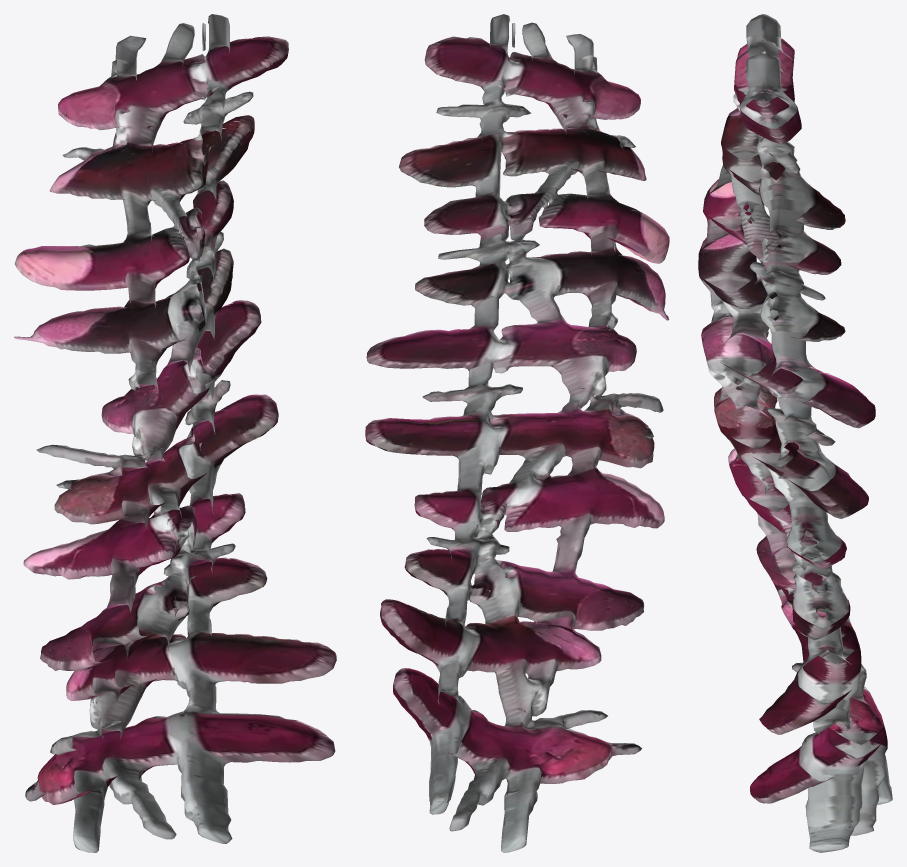
Rendered from hy3d-mov-009.glb.
3 views of the same model, side by side, from view 1: azimuth 30°, elevation 25°; view 2: azimuth 150°, elevation 25°; view 3: azimuth 270°, elevation 25° (orthographic). The views are drawn at different scales.
Parts seen in each view (by area): view 1: world; view 2: world; view 3: world.
Part boxes in pixels (x1=…): world: x1=14, y1=14, x2=336, y2=852; world: x1=365, y1=14, x2=669, y2=852; world: x1=698, y1=14, x2=892, y2=852.
Bounding box in the file's own units: 0.8861 × 2.27 × 0.5129.
1 material, 1 textured.
